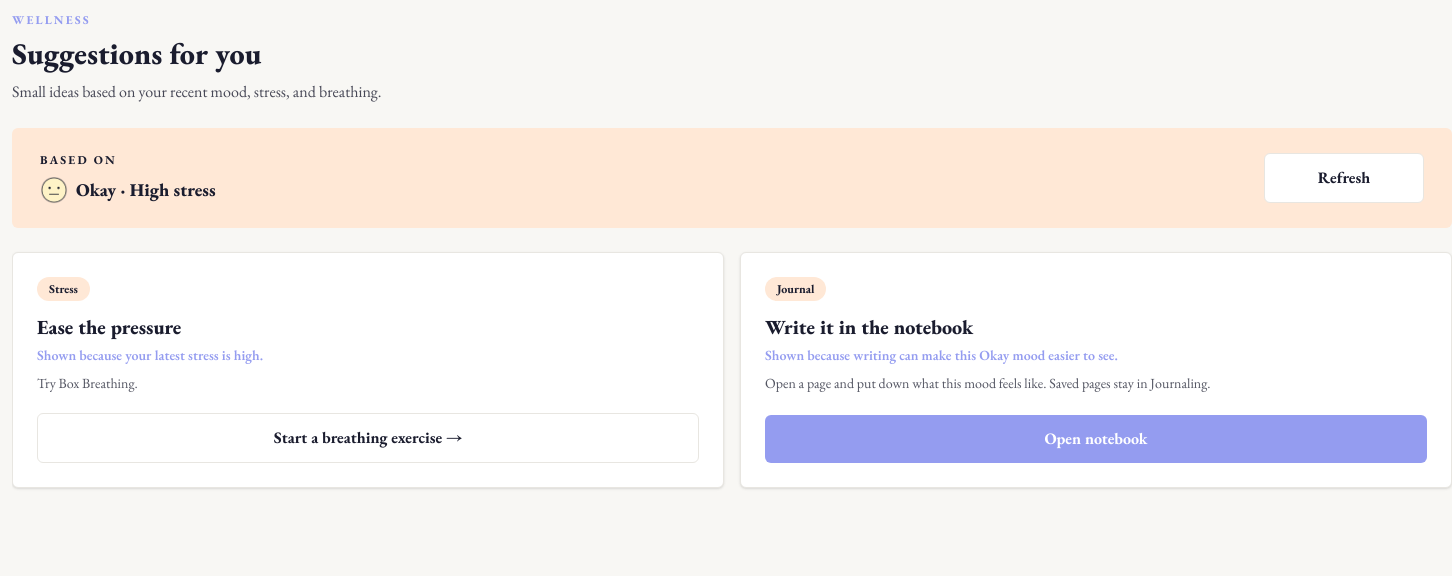
Suggestions › keeps the current suggestions when a refresh fails
Expected: the heading "Ease the pressure" is shown, [37, 314, 181, 340]
Click the button "Refresh". click: {"x": 1344, "y": 178}
box: [1264, 153, 1424, 203]
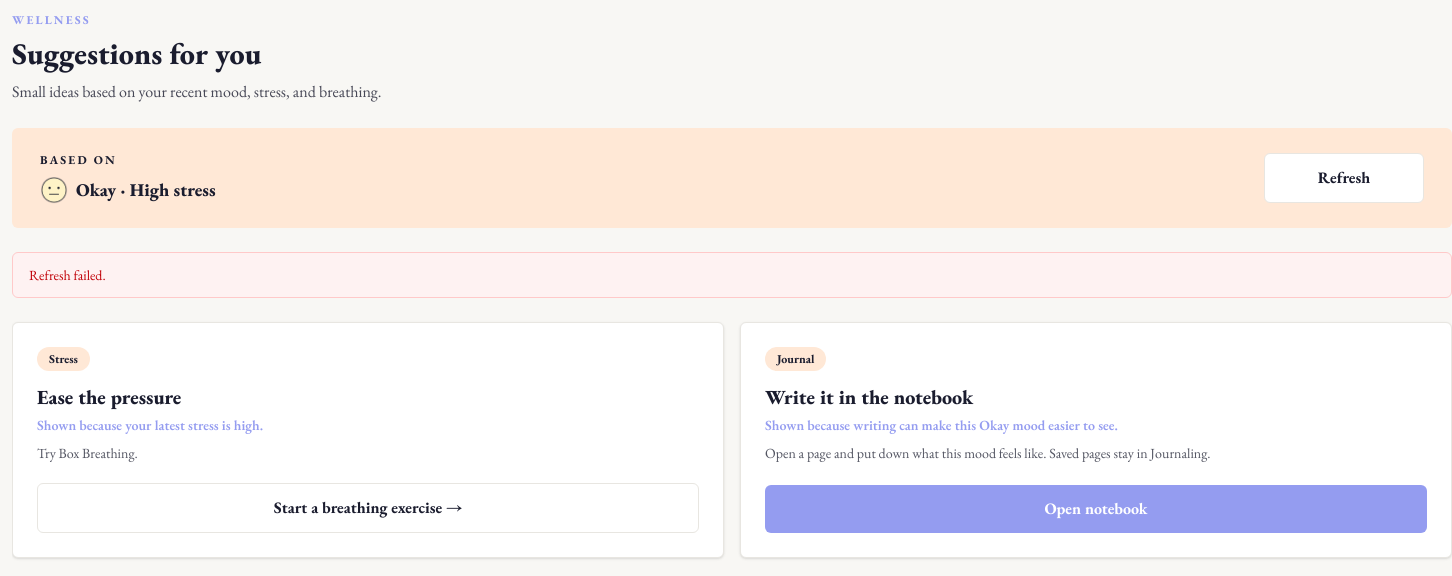
Expected: the heading "Ease the pressure" is shown, [37, 384, 181, 410]
Now the message reads "Refresh failed.", box [29, 266, 106, 284]
